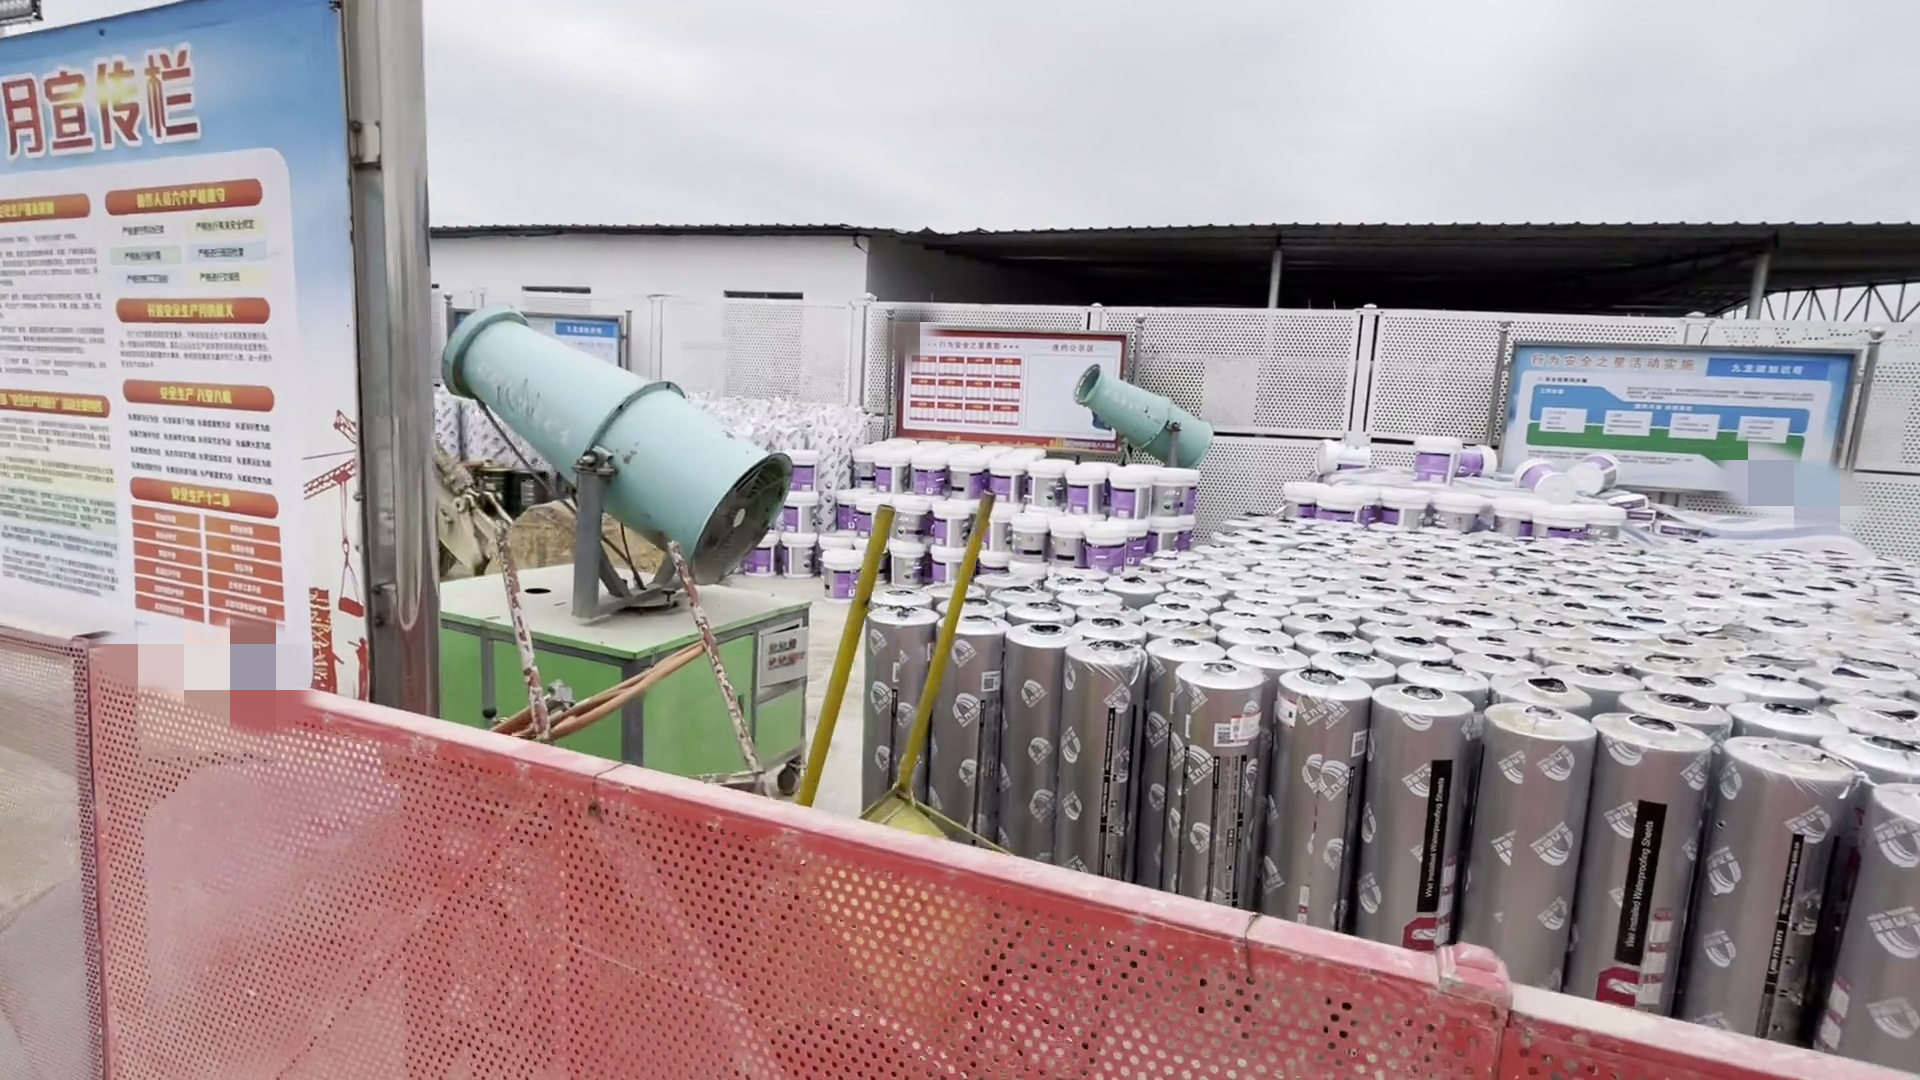fence: (7, 629, 1660, 1080)
